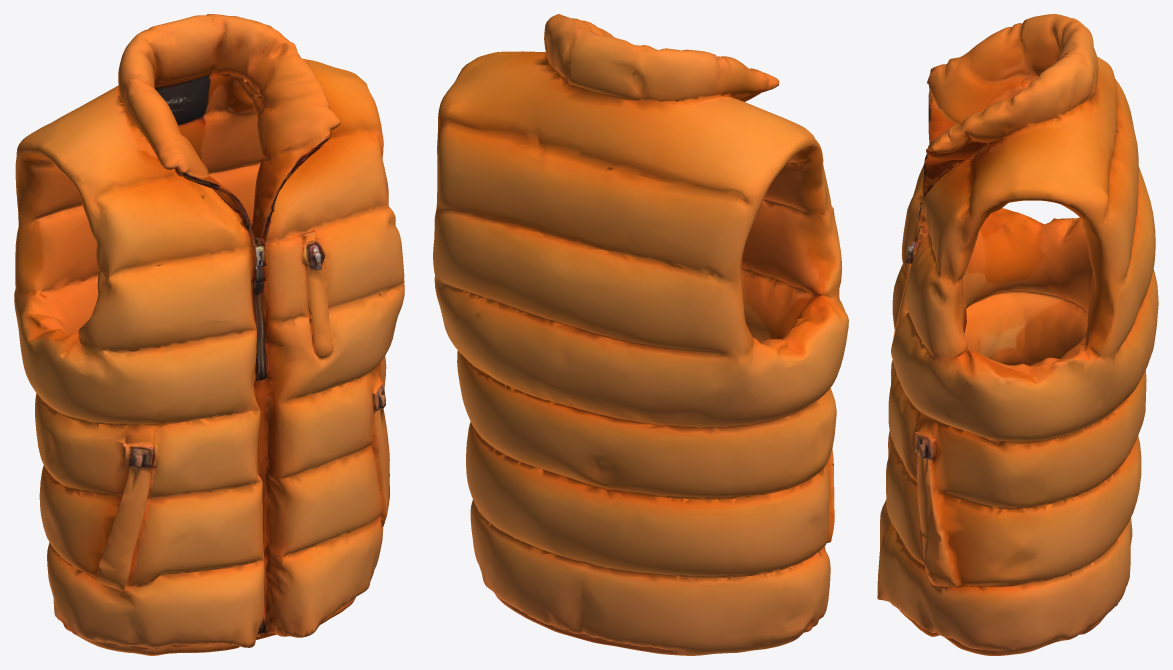
The model's file is web.glb.
The picture shows the model from 3 angles, left to right: view 1: azimuth 30°, elevation 25°; view 2: azimuth 150°, elevation 25°; view 3: azimuth 270°, elevation 25°; orthographic projection. The views are drawn at different scales.
Visible parts, largest first — view 1: model; view 2: model; view 3: model.
Boxes of the visible parts, <box> form: model: <box>14,14,404,655</box>; model: <box>433,14,848,655</box>; model: <box>877,14,1158,655</box>.
Bounding box in the file's own units: 1.29 × 2 × 0.9046.
1 material, 1 textured.
